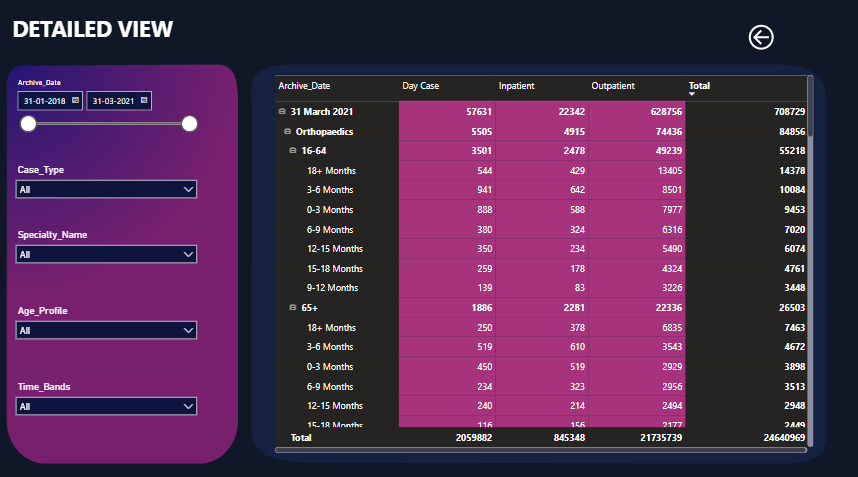

Layout of this report page (visuals, bound fields, positions):
{"tool":"powerbi","page":{"name":"Detail","canvas":[1280,720],"ordinal":1},"visuals":[{"type":"slicer","fields":{"Values":["All.Archive_Date"]},"box":[16,112,288,96],"z":0},{"type":"slicer","fields":{"Values":["All.Case_Type"]},"box":[16,240,288,80],"z":1000},{"type":"slicer","fields":{"Values":["All.Specialty_Name"]},"box":[16,336,288,80],"z":2000},{"type":"textbox","box":[16,16,256,64],"z":3000},{"type":"slicer","fields":{"Values":["All.Age_Profile"]},"box":[16,448,288,80],"z":4000},{"type":"slicer","fields":{"Values":["All.Time_Bands"]},"box":[16,560,288,80],"z":5000},{"type":"pivotTable","fields":{"Rows":["All.Archive_Date","All.Specialty_Name","All.Age_Profile","All.Time_Bands"],"Columns":["All.Case_Type"],"Values":["Sum(All.Total)"]},"box":[400,112,808,560],"z":6000},{"type":"actionButton","box":[1104,32,112,48],"z":7000}]}

Visuals, with their boxes in screenshot pixels (x1, y1, x2, y2), scaled from the page's 1280x720 canvas onto the 858x477 screenshot:
slicer - All.Archive_Date: pyautogui.locateOnScreen(11, 74, 204, 138)
slicer - All.Case_Type: pyautogui.locateOnScreen(11, 159, 204, 212)
slicer - All.Specialty_Name: pyautogui.locateOnScreen(11, 223, 204, 276)
textbox: pyautogui.locateOnScreen(11, 11, 182, 53)
slicer - All.Age_Profile: pyautogui.locateOnScreen(11, 297, 204, 350)
slicer - All.Time_Bands: pyautogui.locateOnScreen(11, 371, 204, 424)
pivotTable - All.Archive_Date x All.Specialty_Name: pyautogui.locateOnScreen(268, 74, 810, 445)
actionButton: pyautogui.locateOnScreen(740, 21, 815, 53)
